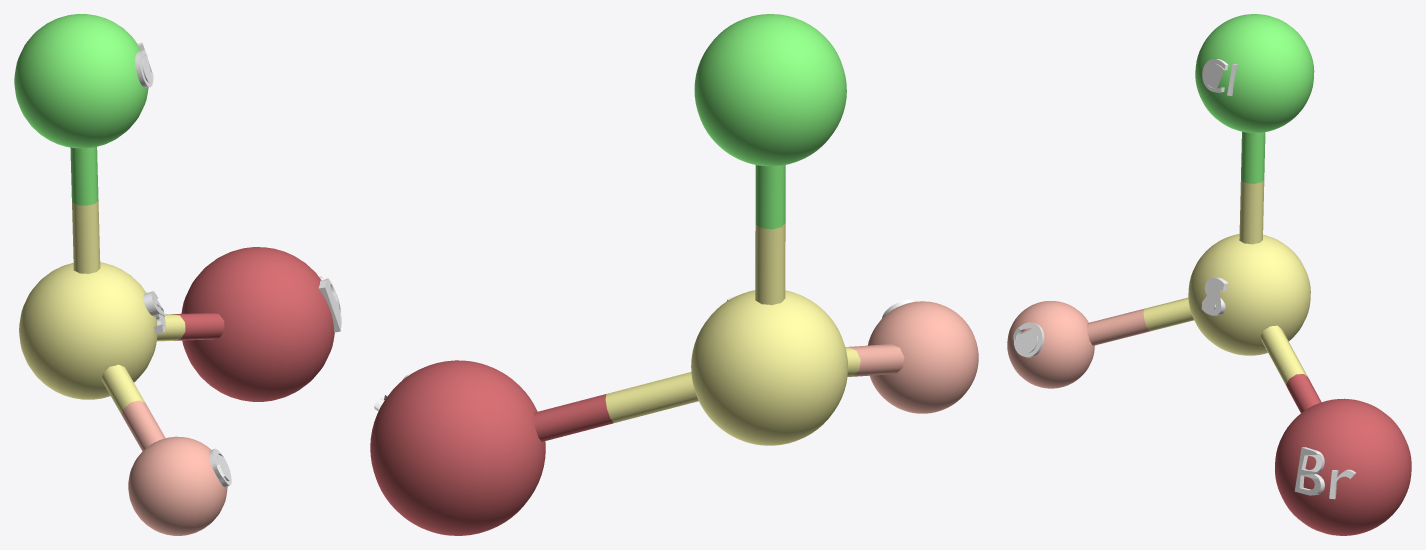
Rendered from SOClBr.fbx.
3 renders of one model, left to right at view 1: azimuth 30°, elevation 25°; view 2: azimuth 150°, elevation 25°; view 3: azimuth 270°, elevation 25°, orthographic. The views are drawn at different scales.
Visible parts, largest first — view 1: SOClBr; view 2: SOClBr; view 3: SOClBr.
Boxes of the visible parts, x1,y1,x2,y2 form: SOClBr: (14, 14, 341, 535); SOClBr: (370, 14, 978, 535); SOClBr: (1007, 14, 1411, 535).
Size of the model in its own units: 306 by 378 by 336.
